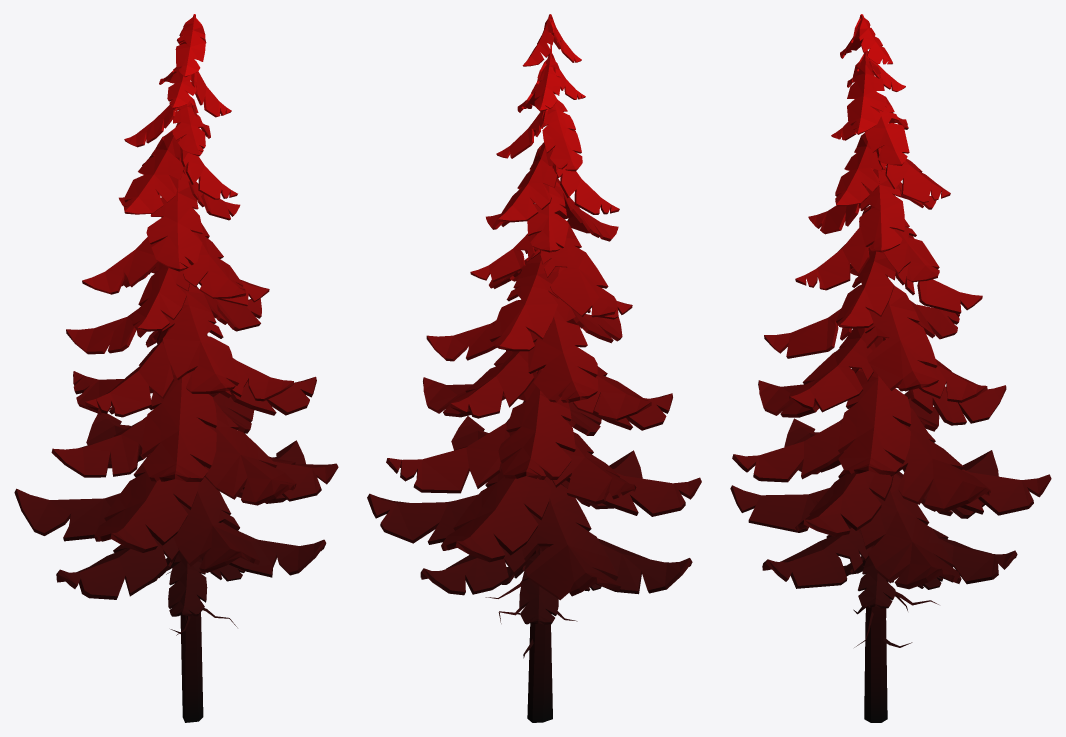
The model's file is TreeSpruce07.fbx.
3 renders of one model, left to right at view 1: azimuth 30°, elevation 25°; view 2: azimuth 150°, elevation 25°; view 3: azimuth 270°, elevation 25°, orthographic.
Visible parts, largest first — view 1: TreeSpruce07_LOD0; view 2: TreeSpruce07_LOD0; view 3: TreeSpruce07_LOD0.
Boxes of the visible parts, x1,y1,x2,y2 form: TreeSpruce07_LOD0: (14, 14, 338, 722); TreeSpruce07_LOD0: (367, 14, 701, 722); TreeSpruce07_LOD0: (730, 14, 1051, 722).
Size of what is drawn, in the model's own units: 163 by 387 by 161.
